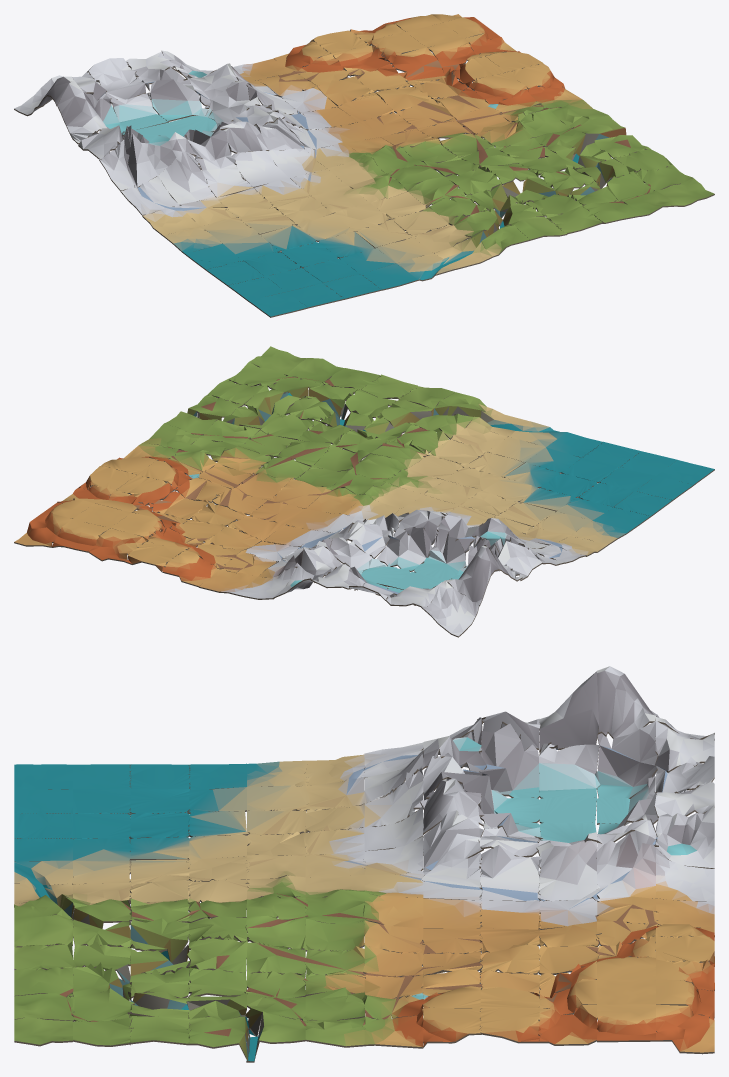
The model's file is terrain_lod2.glb.
3 views of the same model, one above another, from view 1: azimuth 30°, elevation 25°; view 2: azimuth 150°, elevation 25°; view 3: azimuth 270°, elevation 25° (orthographic). The views are drawn at different scales.
Parts seen in each view (by area): view 1: chunk_3_10, chunk_0_7, chunk_1_6, chunk_0_9, chunk_2_11, chunk_2_6, chunk_9_9, chunk_3_6, chunk_4_9, chunk_2_10, chunk_0_6, chunk_1_7 (+122 smaller); view 2: chunk_0_11, chunk_3_8, chunk_0_10, chunk_2_8, chunk_9_11, chunk_7_11, chunk_10_11, chunk_4_8, chunk_11_11, chunk_0_8, chunk_10_8, chunk_2_7 (+114 smaller); view 3: chunk_1_10, chunk_5_10, chunk_1_8, chunk_5_9, chunk_1_9, chunk_4_11, chunk_0_9, chunk_5_8, chunk_0_10, chunk_4_7, chunk_11_11, chunk_11_10 (+129 smaller).
Part boxes in pixels (x1,y1,x2,y2): chunk_3_10: (149, 66, 201, 121); chunk_0_7: (99, 133, 157, 191); chunk_1_6: (158, 151, 216, 204); chunk_0_9: (57, 80, 106, 144); chunk_2_11: (87, 58, 145, 99); chunk_2_6: (195, 155, 253, 197); chunk_9_9: (392, 47, 446, 86); chunk_3_6: (231, 150, 289, 187); chunk_4_9: (204, 80, 260, 123); chunk_2_10: (109, 92, 168, 130); chunk_0_6: (120, 176, 179, 215); chunk_1_7: (140, 132, 196, 174); chunk_0_11: (421, 581, 479, 637); chunk_3_8: (377, 527, 431, 571); chunk_0_10: (444, 546, 501, 605); chunk_2_8: (414, 533, 466, 579); chunk_9_11: (88, 528, 146, 561); chunk_7_11: (162, 550, 219, 587); chunk_10_11: (51, 519, 109, 552); chunk_4_8: (343, 519, 393, 558); chunk_11_11: (14, 514, 72, 547); chunk_0_8: (493, 540, 542, 580); chunk_10_8: (116, 474, 173, 508); chunk_2_7: (434, 513, 483, 553); chunk_1_10: (595, 721, 658, 798); chunk_5_10: (596, 831, 655, 898); chunk_1_8: (479, 723, 539, 798); chunk_5_9: (538, 840, 599, 901); chunk_1_9: (539, 742, 600, 798); chunk_4_11: (655, 805, 714, 868); chunk_0_9: (538, 671, 598, 750); chunk_5_8: (479, 845, 541, 901); chunk_0_10: (597, 666, 656, 738); chunk_4_7: (423, 810, 483, 870); chunk_11_11: (656, 1004, 714, 1054); chunk_11_10: (597, 1004, 656, 1042).
Size of the model in its own units: 2404 by 421 by 2402.
